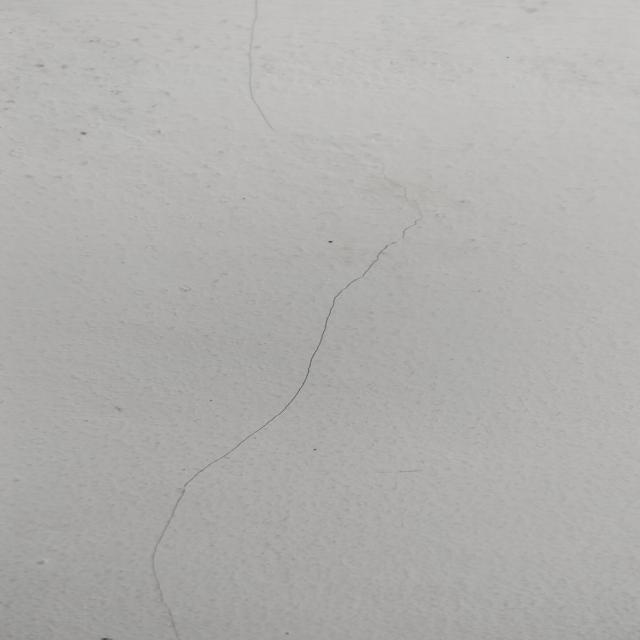Crack: (135, 220, 434, 640), (232, 1, 319, 143)
